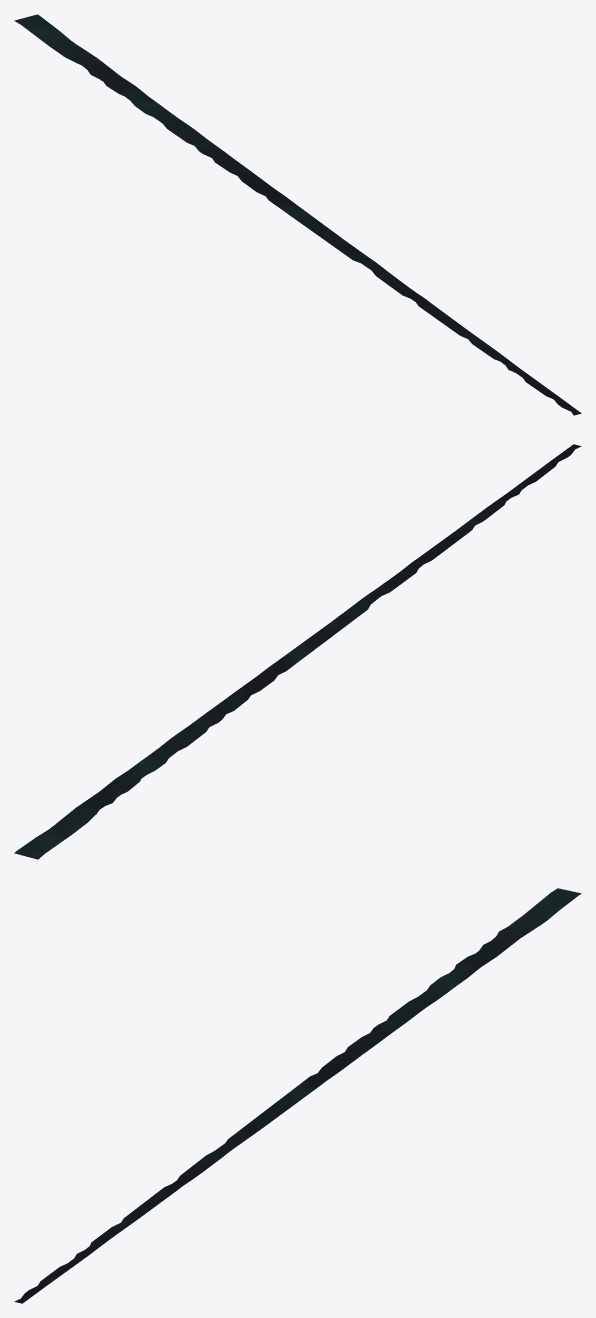
3 views of the same model, one above another, from view 1: azimuth 30°, elevation 25°; view 2: azimuth 150°, elevation 25°; view 3: azimuth 330°, elevation 25° (orthographic). The views are drawn at different scales.
Size of the model in its own units: 10.42 by 0.9803 by 418.
1 material, 1 textured.
